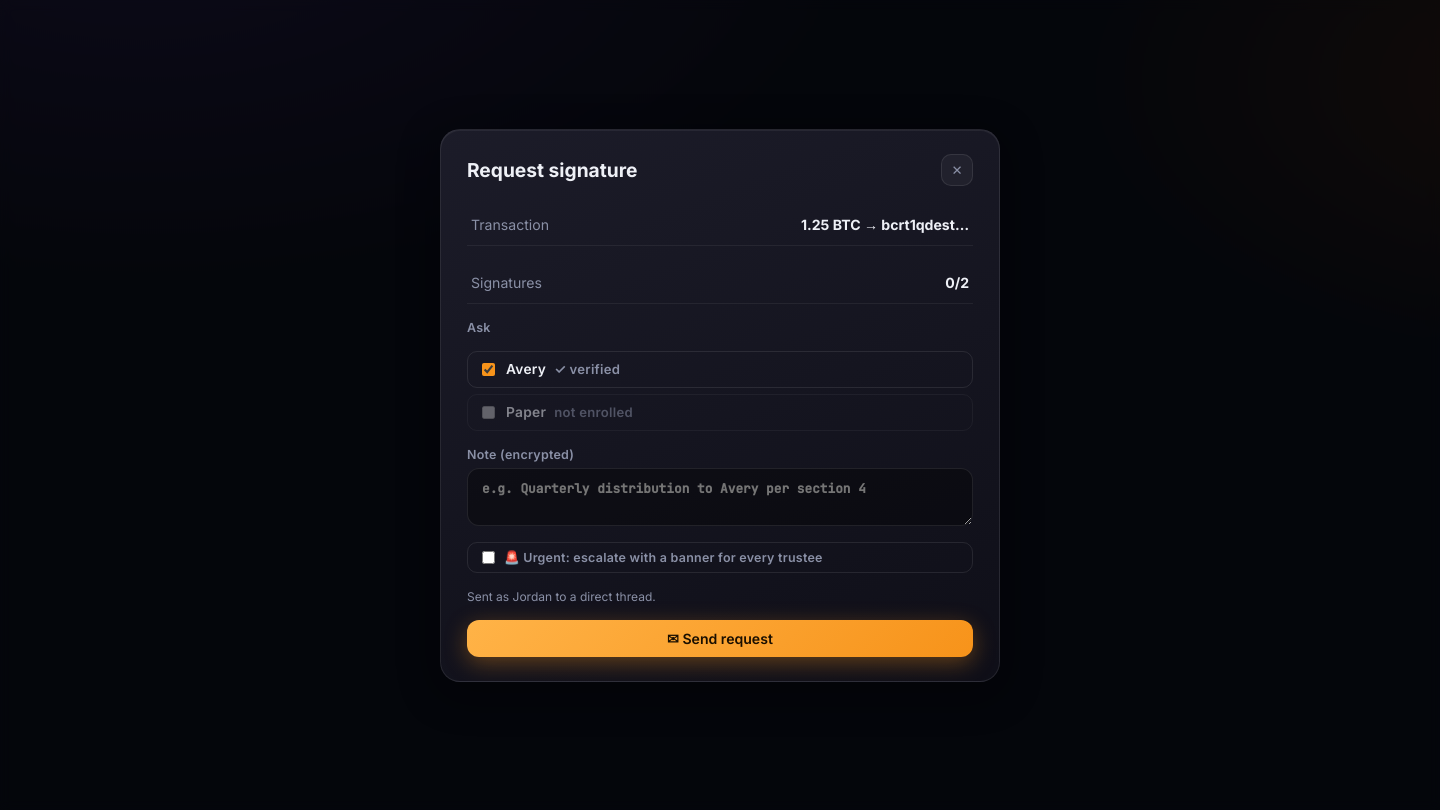
Test: Request signature from the PSBT screen › creates a linked request and sends an encrypted card to the chosen trustee
Step 1. Click the button with test id "sigreq-send" → (720, 638), box [467, 620, 973, 656]
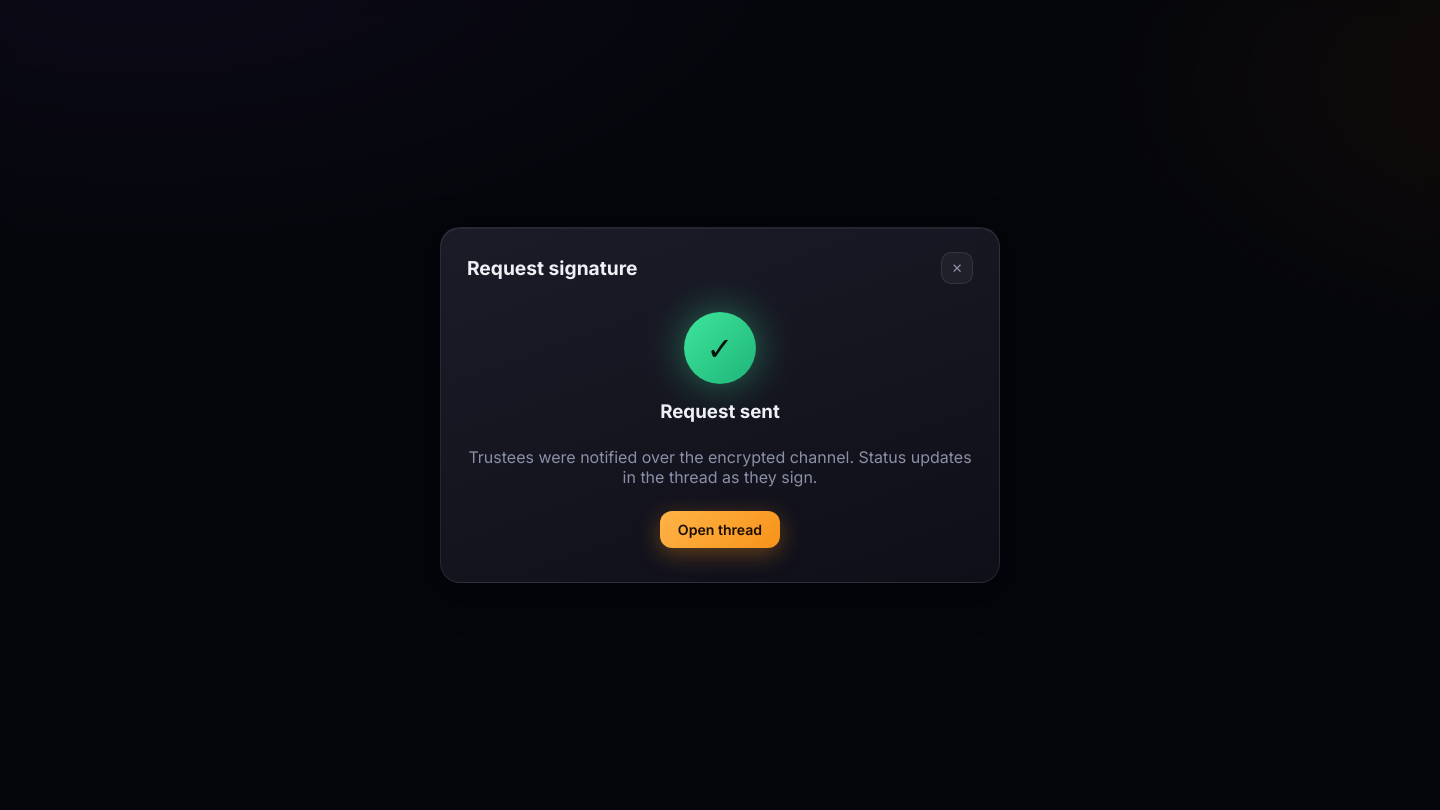
Now the element with test id "sigreq-sent" is shown, box [467, 302, 973, 558]
